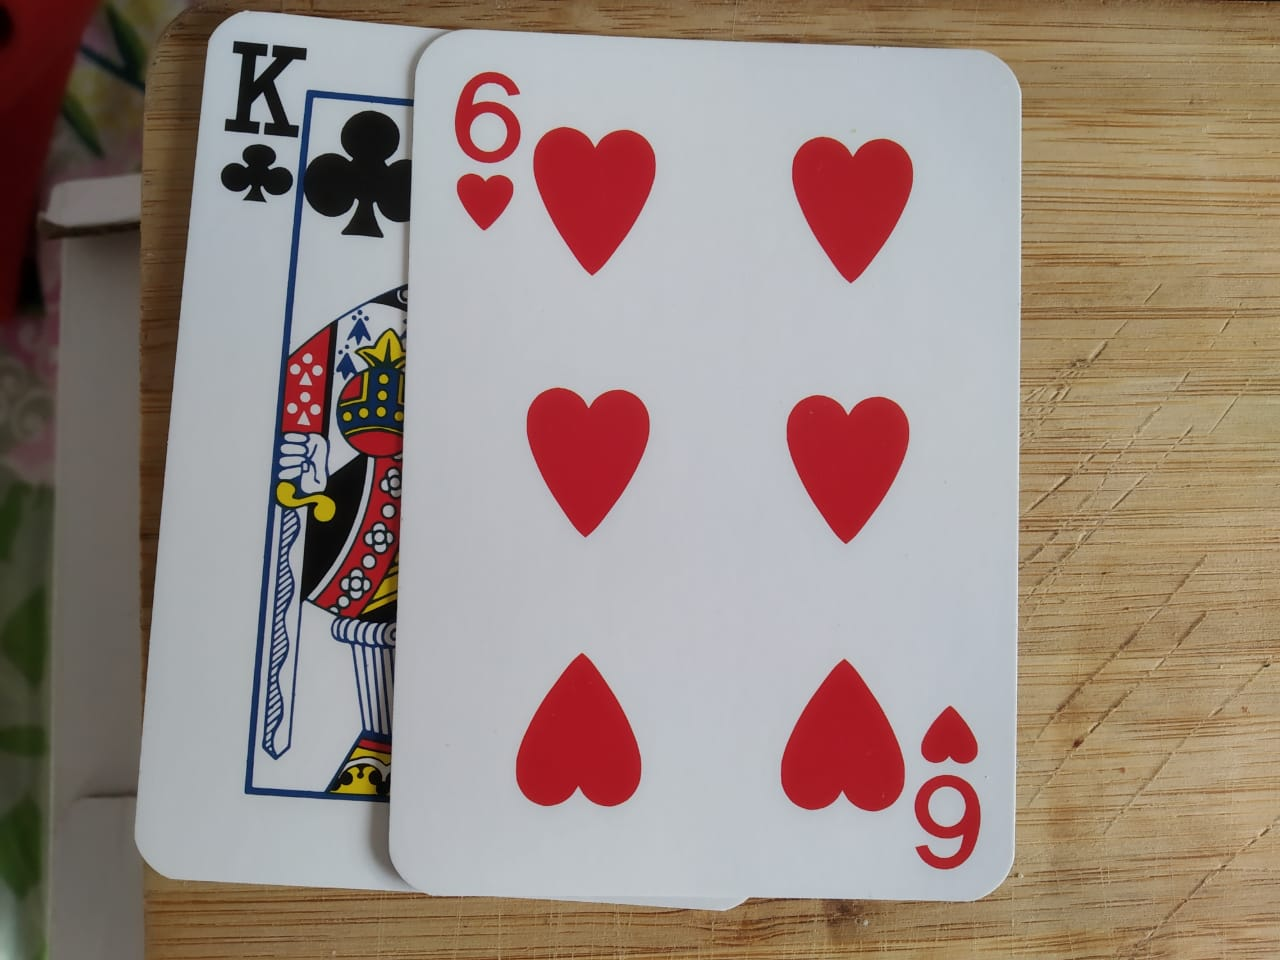king: (126, 1, 799, 933)
six: (392, 9, 1045, 925)
